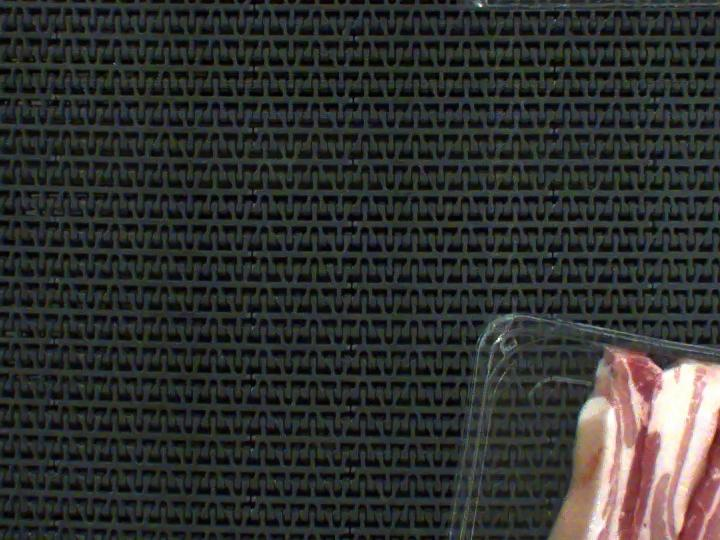packaging-error: (573, 291, 720, 412)
